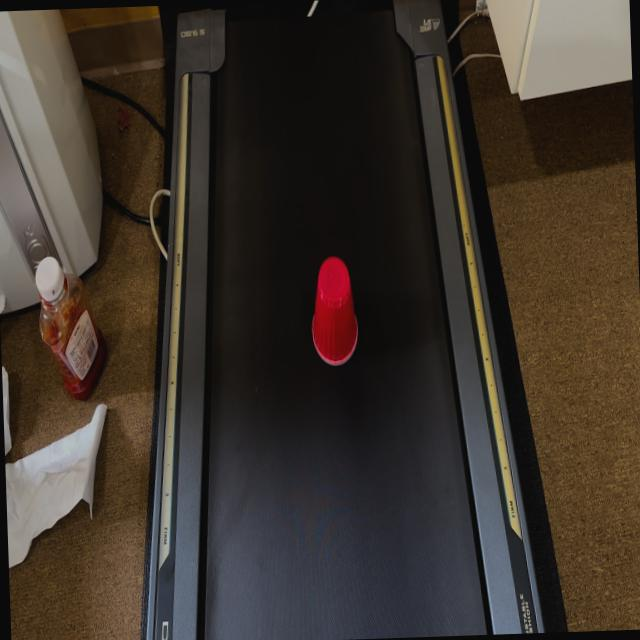Recycle: (308, 256, 360, 366)
